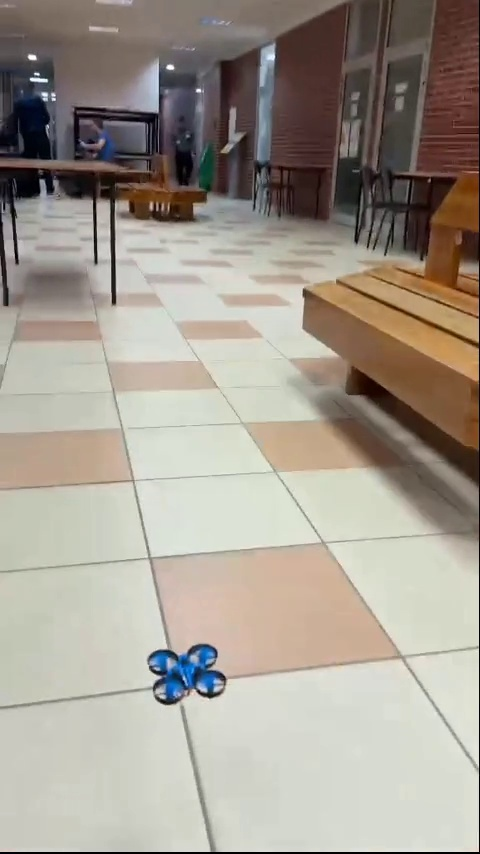drone: (149, 644, 224, 707)
no vest: (8, 76, 65, 195), (74, 109, 117, 165), (167, 112, 194, 181)
